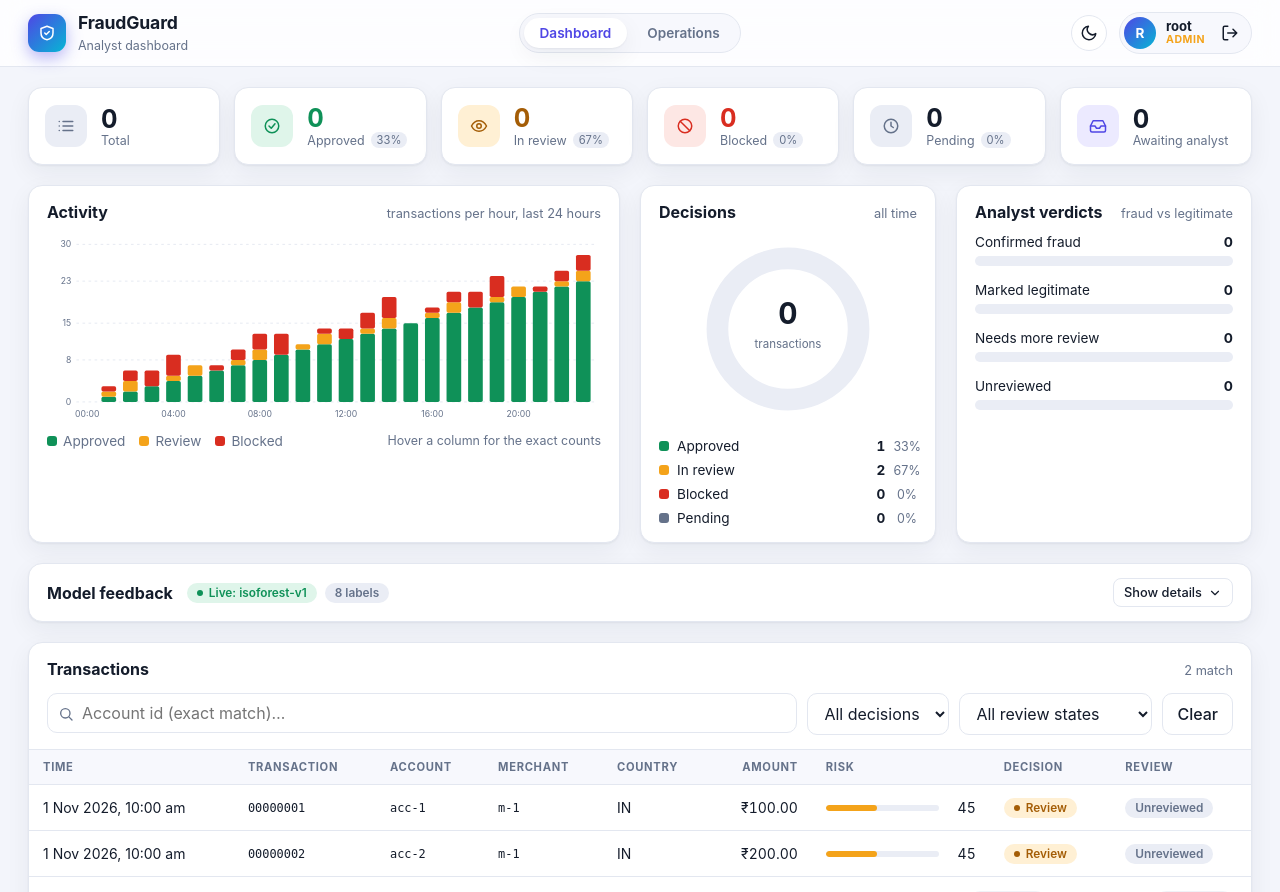
Test: who sees the Operations tab › an admin sees Dashboard and Operations and can switch between them
The image size is (1280, 892).
Click the button "Operations" at (683,33), box [631,18,736,48]
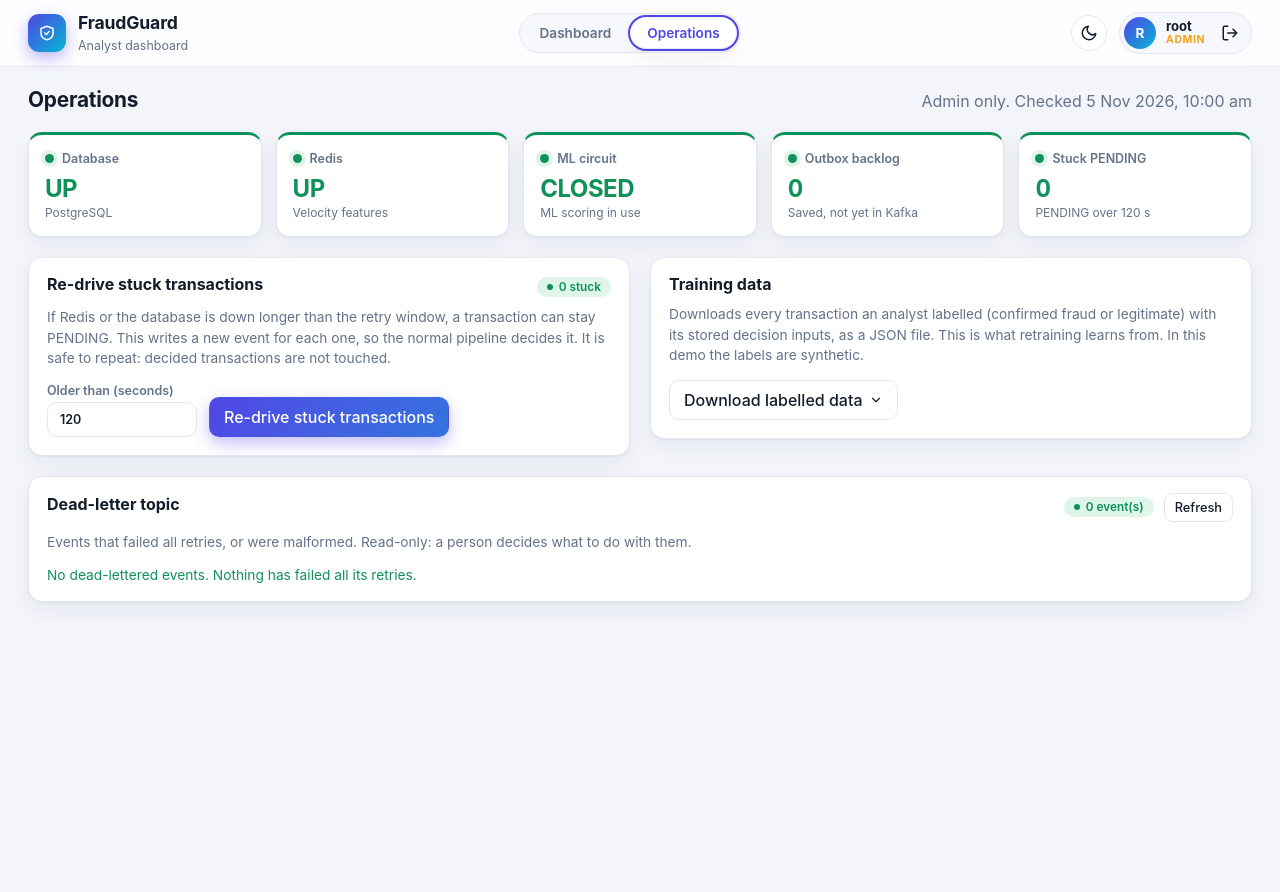
Result: the element "Operations" is shown at [28,87,1252,602]
Result: the element "Summary" is gone
Click the button "Dashboard" at (575,33), box [524,18,627,48]
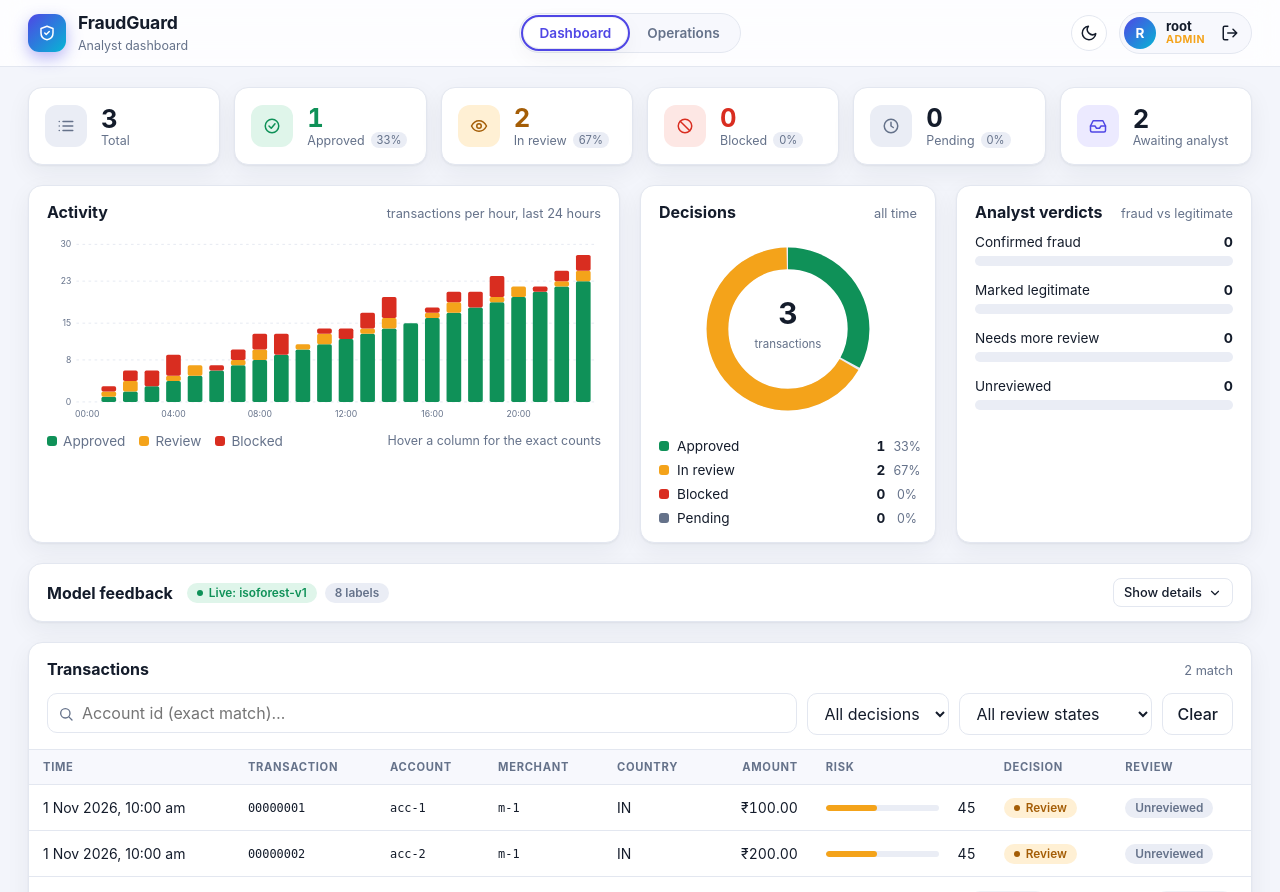
Result: the element named "Summary" is shown at [0,87,1279,165]
